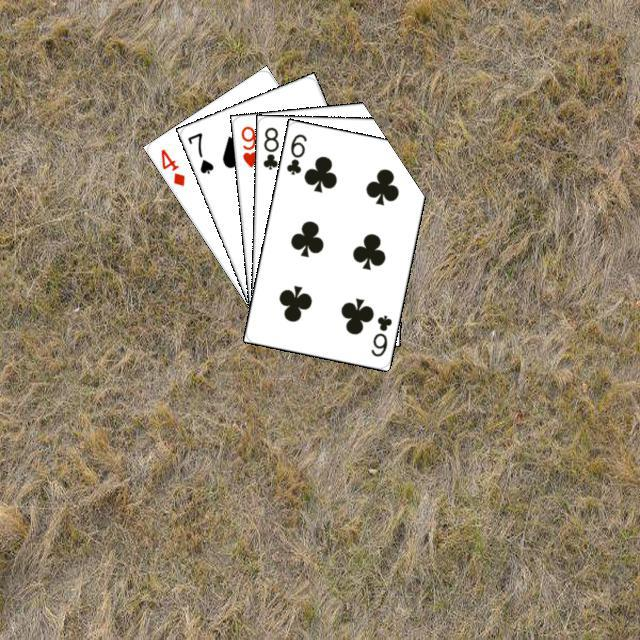4d: (156, 144, 187, 188)
6c: (281, 129, 309, 177), (366, 310, 394, 358)
7s: (183, 128, 215, 176)
8c: (258, 122, 280, 171)
9h: (236, 121, 259, 169)
